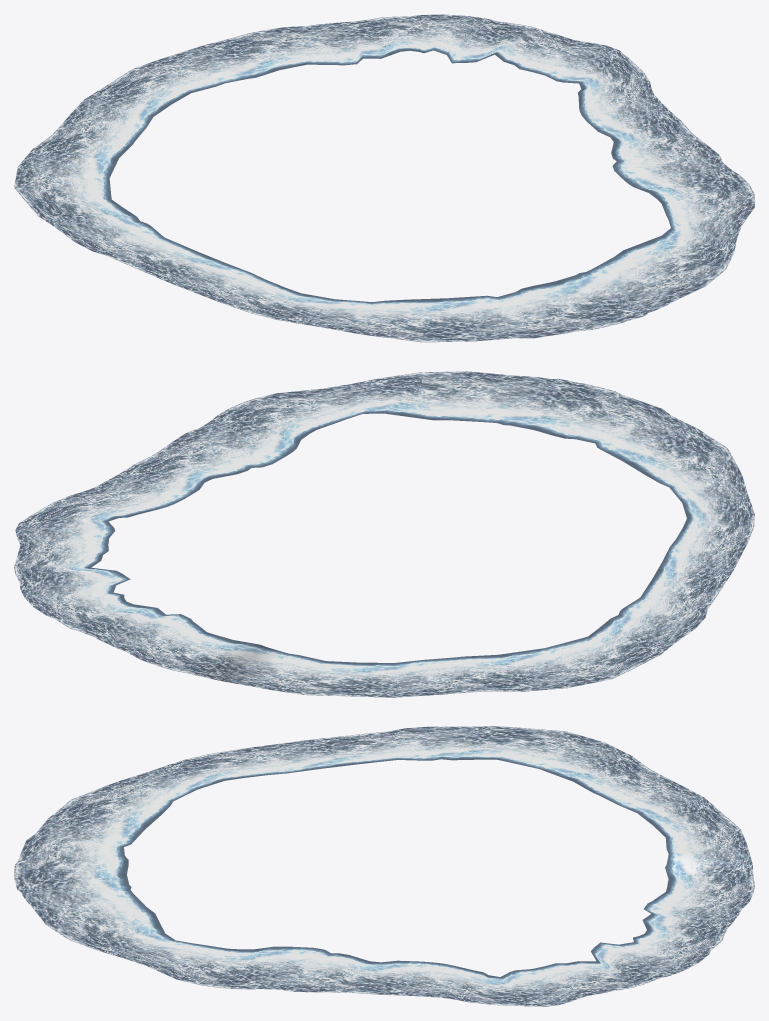
The model's file is island_01_coast.fbx.
The picture shows the model from 3 angles, top to bottom: view 1: azimuth 30°, elevation 25°; view 2: azimuth 150°, elevation 25°; view 3: azimuth 270°, elevation 25°; orthographic projection. The views are drawn at different scales.
Parts seen in each view (by area): view 1: island_01_coast5; view 2: island_01_coast5; view 3: island_01_coast5.
Part boxes in pixels (bbox=[...]): island_01_coast5: bbox=[14, 14, 754, 342]; island_01_coast5: bbox=[14, 371, 754, 697]; island_01_coast5: bbox=[14, 726, 754, 1006].
Size of the model in its own units: 0.371 by 0 by 0.414.
Materials: 1 (1 with a texture image).
